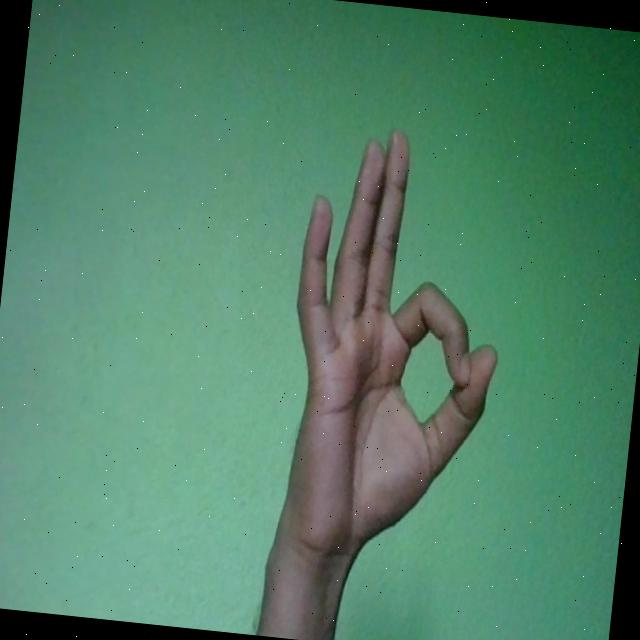Rock On: (268, 116, 522, 580)
